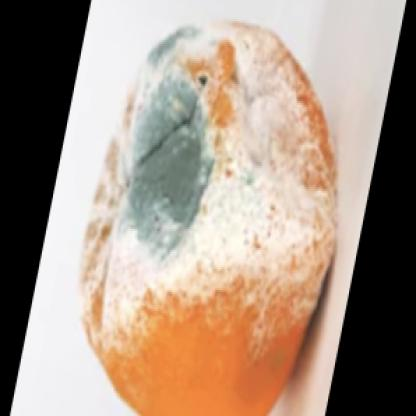rotten: (79, 22, 337, 416)
